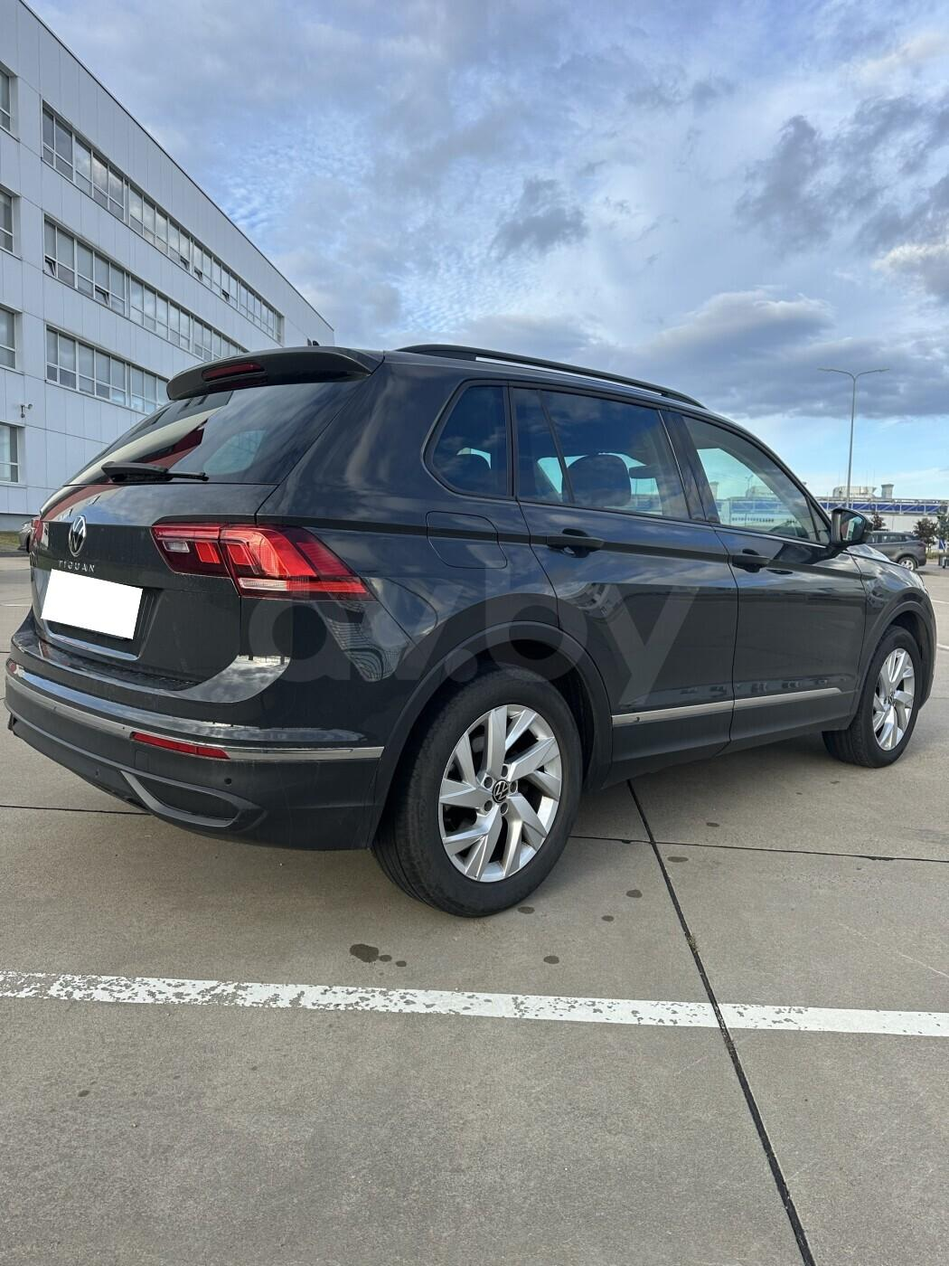Tiguan_2016-2021: (5, 340, 936, 910)
